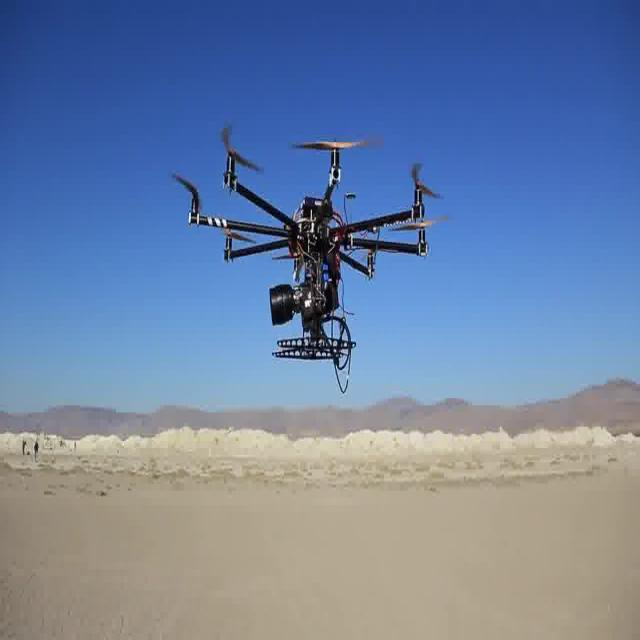drone: (177, 127, 439, 370)
